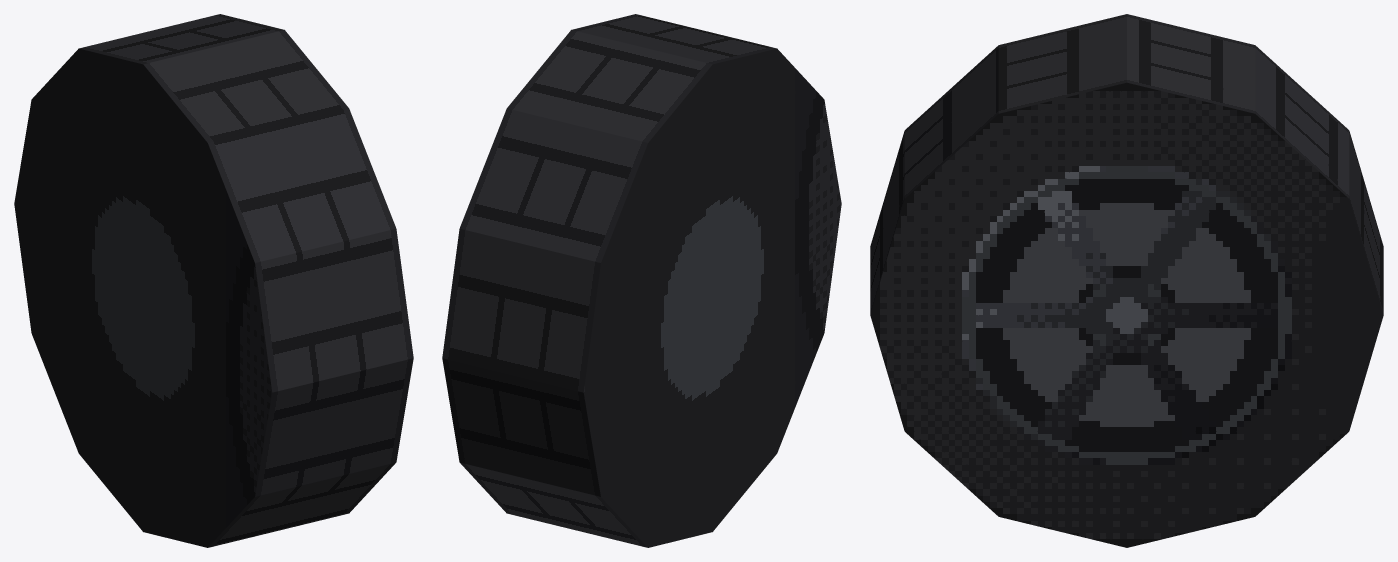
File: wheel_black6.glb
3 views of the same model, side by side, from view 1: azimuth 30°, elevation 25°; view 2: azimuth 150°, elevation 25°; view 3: azimuth 270°, elevation 25° (orthographic).
Parts seen in each view (by area): view 1: wheel_black6; view 2: wheel_black6; view 3: wheel_black6.
Part boxes in pixels (x1,y1,x2,y2): wheel_black6: (14, 14, 413, 547); wheel_black6: (442, 14, 841, 547); wheel_black6: (870, 14, 1383, 547).
Bounding box in the file's own units: 0.185 × 0.5845 × 0.5845.
Materials: 1 (1 with a texture image).
